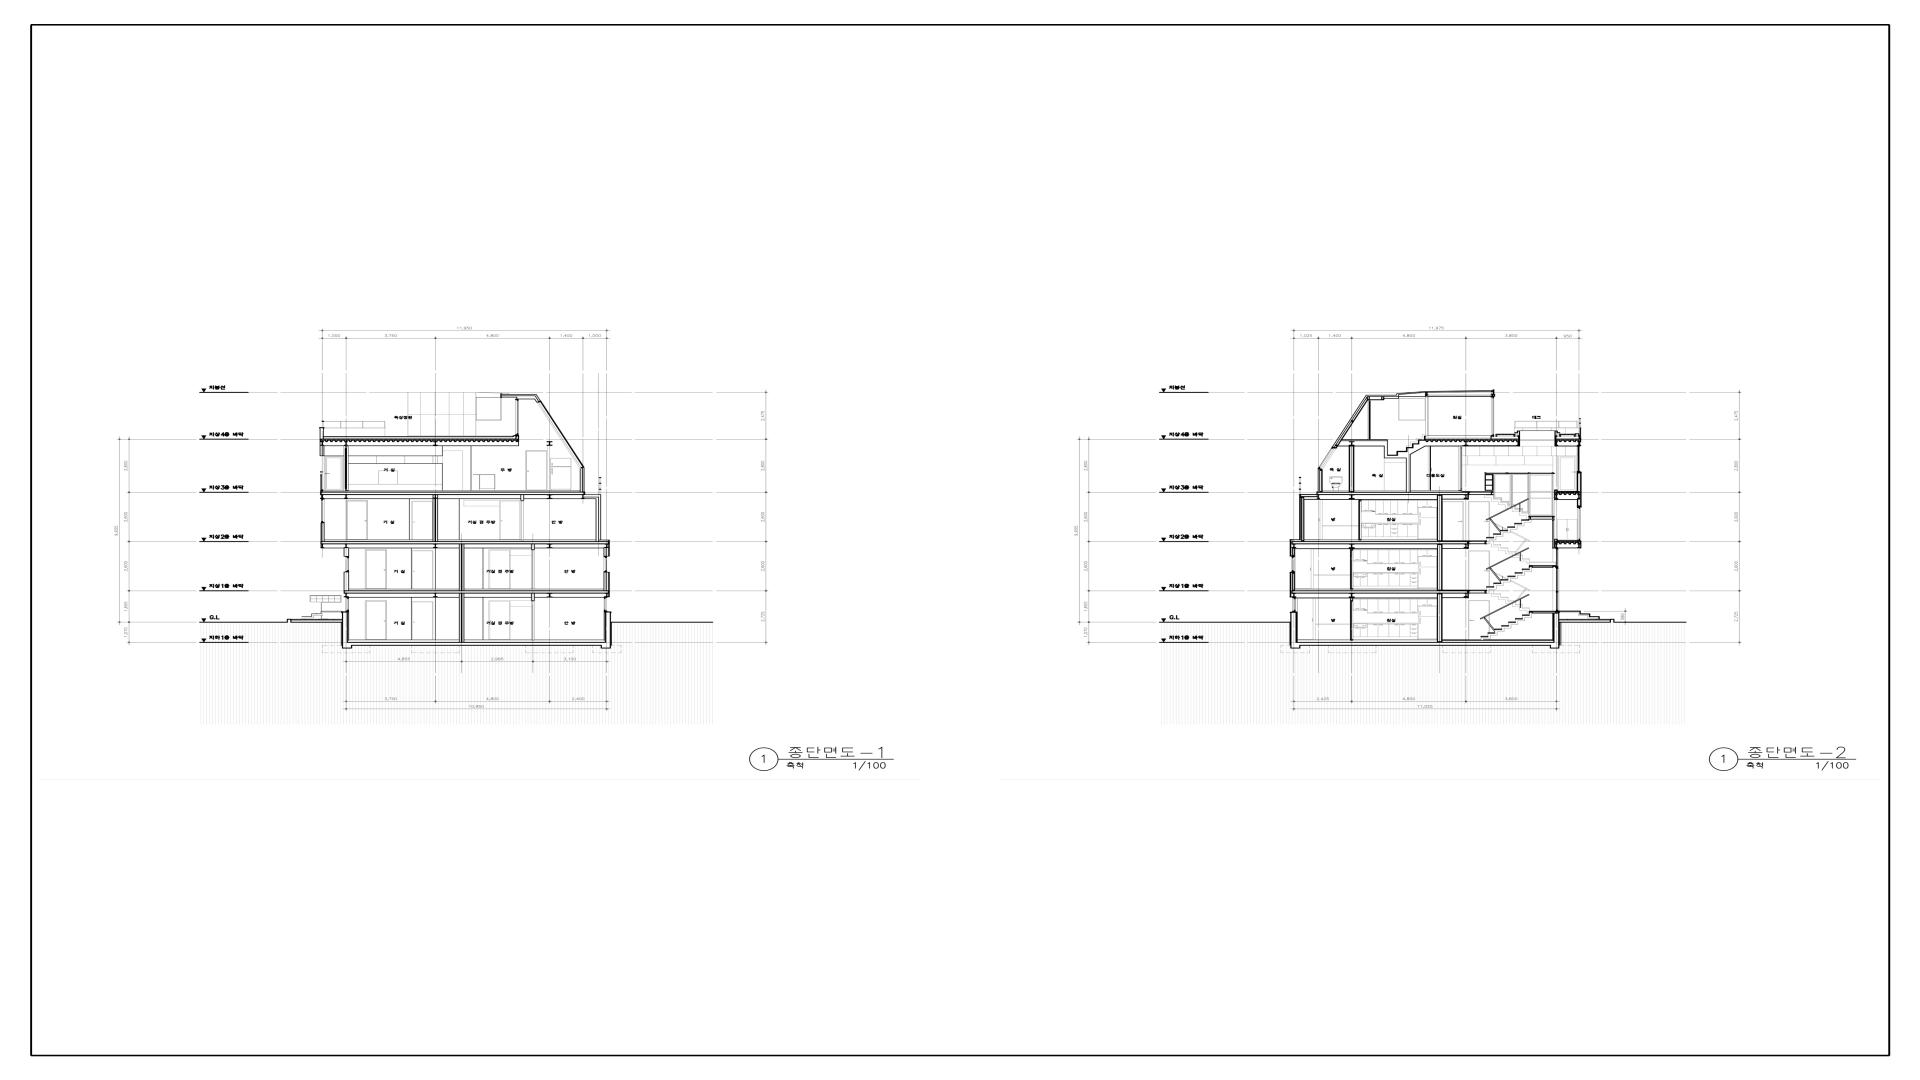door: (1468, 600, 1490, 640), (1468, 501, 1490, 541), (411, 550, 434, 589), (345, 500, 368, 539), (1468, 551, 1490, 589), (411, 601, 434, 640), (1443, 501, 1464, 541), (500, 500, 521, 539), (526, 451, 547, 491), (365, 600, 386, 640), (489, 600, 510, 640), (489, 550, 510, 589), (365, 550, 386, 588), (411, 501, 433, 539), (1559, 456, 1576, 491), (326, 456, 343, 491), (1358, 500, 1362, 541), (1350, 599, 1353, 641), (1556, 568, 1559, 611), (1425, 396, 1428, 436), (1350, 549, 1353, 589), (1367, 400, 1370, 439), (531, 601, 534, 641), (531, 550, 534, 589), (521, 501, 524, 541), (1429, 447, 1431, 491)
wall: (342, 612, 611, 649), (1333, 394, 1367, 447), (320, 541, 609, 545), (1300, 642, 1549, 646), (324, 435, 520, 439), (1291, 541, 1486, 545), (1389, 439, 1425, 459), (1316, 492, 1493, 496), (344, 591, 609, 593), (320, 492, 585, 495), (1425, 440, 1520, 447), (1291, 591, 1486, 593), (1337, 439, 1387, 447), (1396, 390, 1493, 394), (1549, 613, 1560, 649), (1291, 612, 1300, 649), (501, 394, 541, 402), (459, 593, 464, 642), (1437, 593, 1443, 642), (1555, 539, 1581, 549), (459, 545, 464, 591), (433, 495, 438, 541), (1437, 545, 1443, 591), (1437, 495, 1443, 541), (1555, 489, 1577, 500), (1349, 447, 1354, 492), (1299, 497, 1304, 541), (1406, 459, 1411, 492), (1556, 440, 1580, 447), (1577, 472, 1581, 506), (1317, 468, 1323, 492), (599, 497, 601, 539), (344, 572, 349, 591), (1366, 394, 1399, 397), (320, 522, 324, 541), (605, 572, 609, 591), (319, 439, 323, 456), (582, 467, 584, 492), (319, 427, 324, 439), (1299, 495, 1319, 497), (344, 547, 349, 556), (583, 495, 601, 497), (1292, 572, 1295, 591), (1385, 447, 1389, 459), (531, 593, 535, 601), (607, 545, 609, 556), (521, 495, 525, 501), (531, 545, 535, 550), (1292, 549, 1295, 556), (320, 545, 323, 549), (607, 593, 609, 597), (1491, 394, 1495, 397)
window: (537, 401, 584, 469), (1494, 473, 1553, 516), (1317, 446, 1337, 469), (1458, 446, 1462, 491), (344, 446, 348, 491), (514, 398, 518, 435), (1577, 506, 1581, 541), (1491, 397, 1494, 436), (320, 497, 324, 522), (1577, 447, 1580, 472), (1291, 556, 1295, 572), (604, 596, 608, 612), (345, 556, 349, 572), (1292, 597, 1296, 612), (345, 597, 349, 612), (604, 556, 607, 572)
